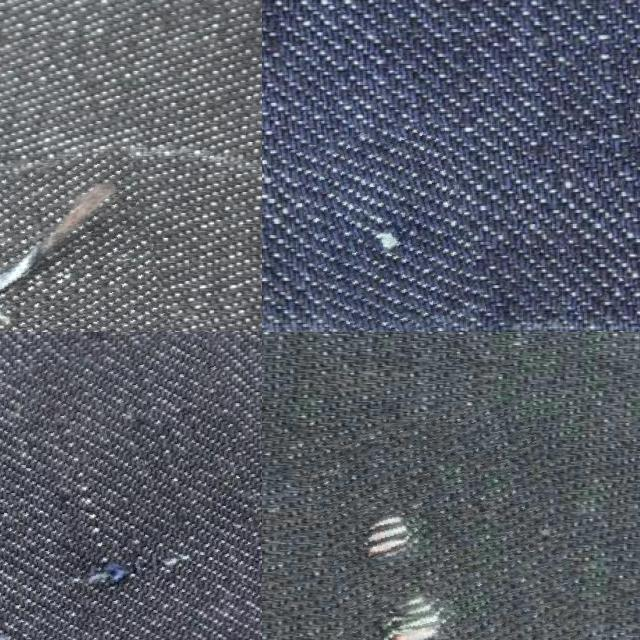stains: (0, 345, 262, 640), (323, 402, 602, 640), (301, 123, 477, 332), (0, 159, 167, 332)
